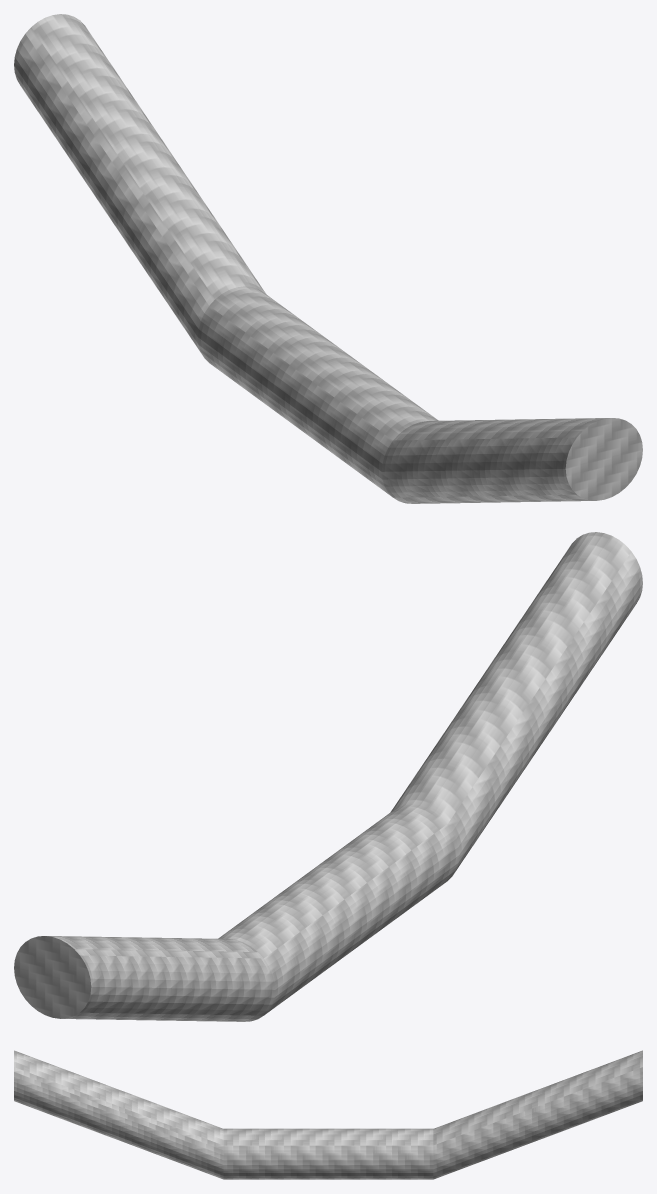
File: cable_sag.fbx
The picture shows the model from 3 angles, top to bottom: view 1: azimuth 30°, elevation 25°; view 2: azimuth 150°, elevation 25°; view 3: azimuth 270°, elevation 25°; orthographic projection. The views are drawn at different scales.
Parts seen in each view (by area): view 1: Cable.000, Cable.001, Cable.002; view 2: Cable.002, Cable.001, Cable.000; view 3: Cable.001, Cable.002, Cable.000.
Part boxes in pixels (<box>): Cable.000: <box>14,14,265,355</box>; Cable.001: <box>198,286,438,497</box>; Cable.002: <box>382,418,642,503</box>; Cable.002: <box>391,532,642,873</box>; Cable.001: <box>218,804,458,1015</box>; Cable.000: <box>14,936,274,1021</box>; Cable.001: <box>223,1128,433,1179</box>; Cable.002: <box>14,1050,223,1179</box>; Cable.000: <box>433,1050,642,1179</box>.
Bounding box in the file's own units: 80.86 × 218 × 1000.
